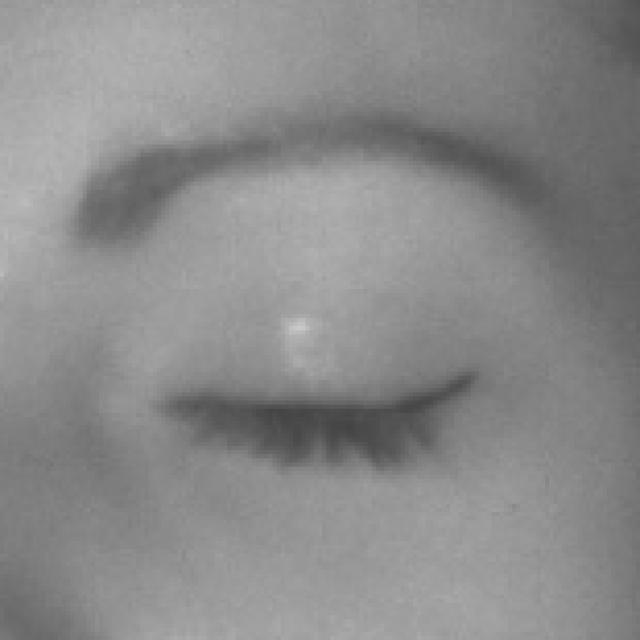close: (37, 83, 640, 584)
